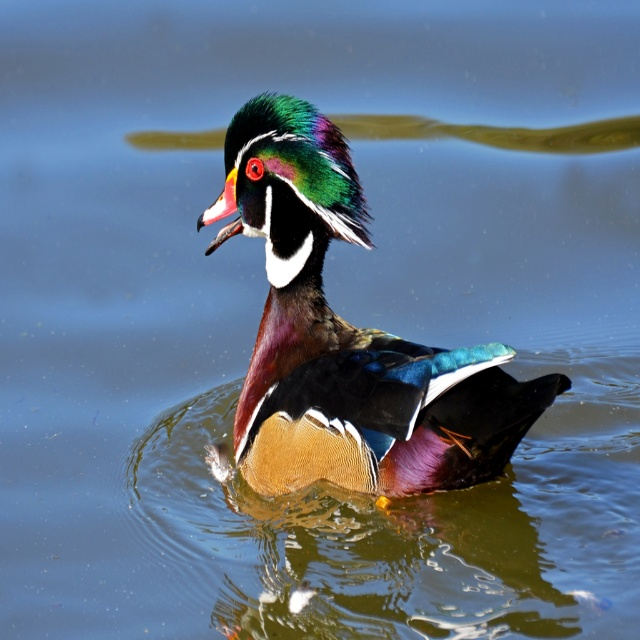Duck: (216, 112, 570, 503)
